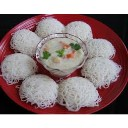idiyappam: (21, 74, 59, 110), (58, 76, 98, 109), (1, 51, 39, 81), (83, 59, 123, 84), (11, 28, 42, 57), (33, 14, 66, 39), (65, 19, 97, 42), (85, 37, 116, 60)
